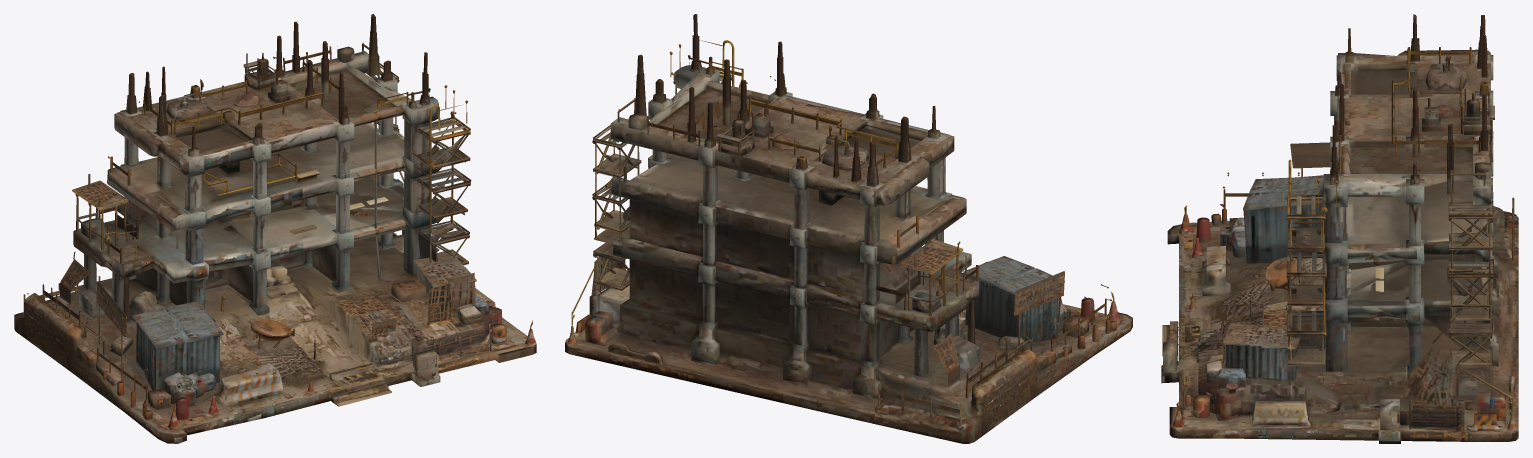
Rendered from ruined_building_3d_model.fbx.
3 renders of one model, left to right at view 1: azimuth 30°, elevation 25°; view 2: azimuth 150°, elevation 25°; view 3: azimuth 270°, elevation 25°, orthographic. The views are drawn at different scales.
Visible parts, largest first — view 1: tripo_node_3aed9f1a; view 2: tripo_node_3aed9f1a; view 3: tripo_node_3aed9f1a.
Part boxes in pixels (left/top/right/bottom): tripo_node_3aed9f1a: left=14, top=14, right=536, bottom=443; tripo_node_3aed9f1a: left=565, top=14, right=1132, bottom=443; tripo_node_3aed9f1a: left=1161, top=14, right=1518, bottom=443.
Size of the model in its own units: 0.9995 by 0.6743 by 0.7319.
